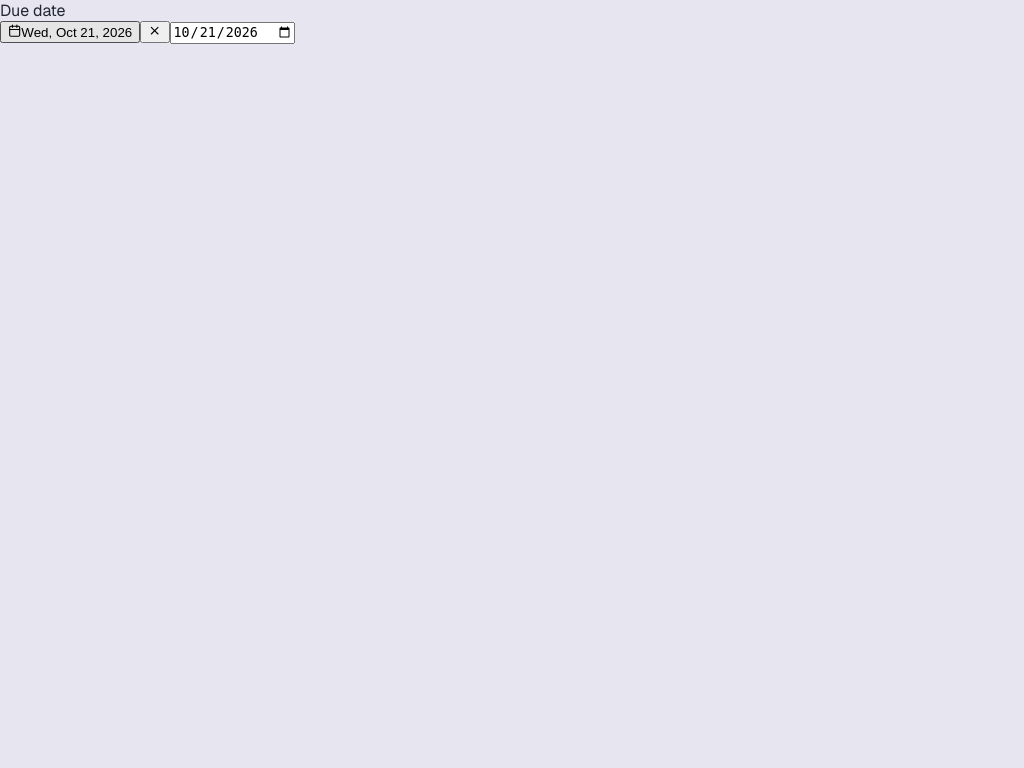
it: reports clicked day and closes
Click the dropdown with id "due".
click(70, 32)  # box [0,21,140,43]
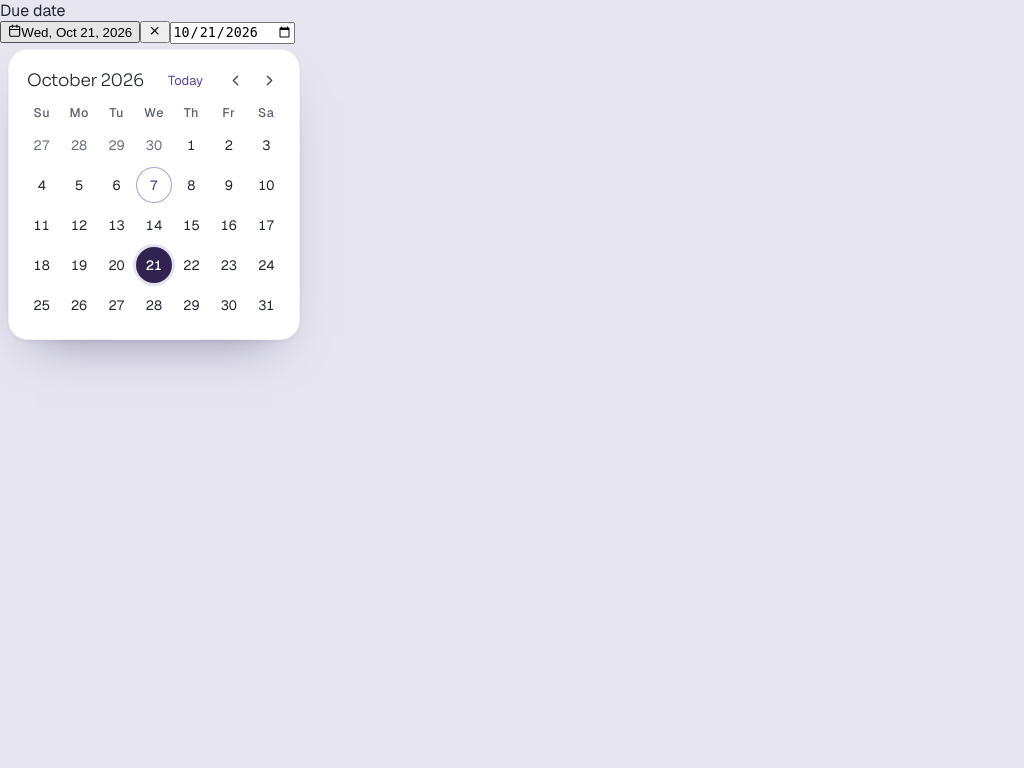
Click the 2nd button "30".
click(229, 305)  # box [211,287,247,323]
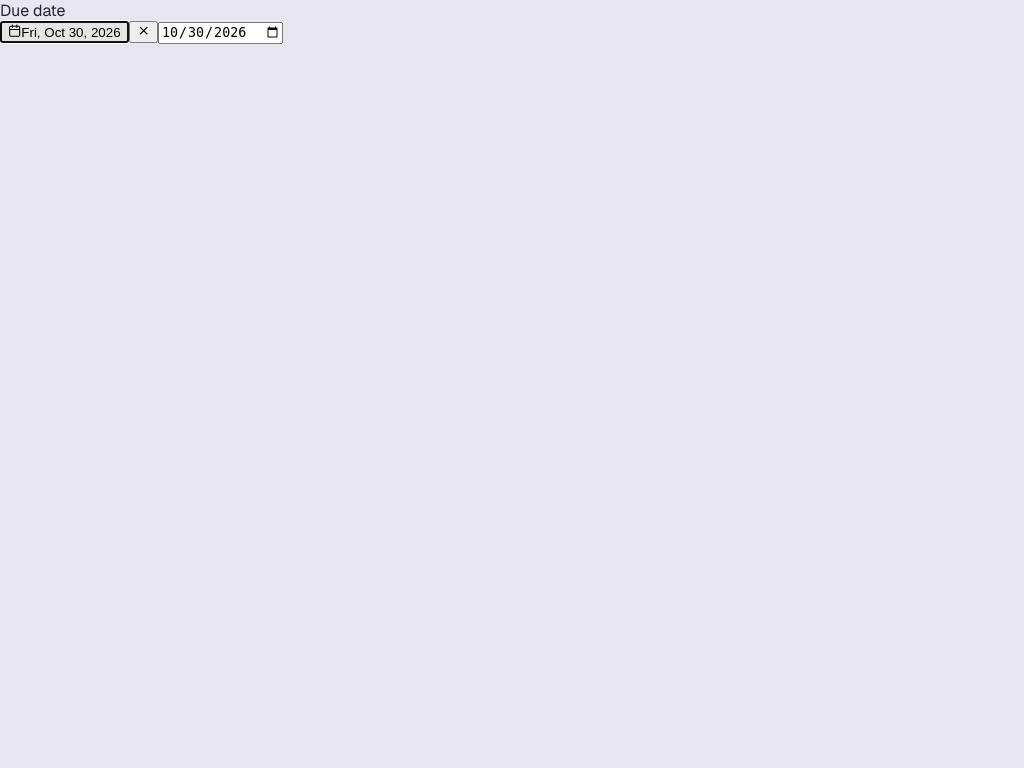
Expected: the dropdown with id "due" is collapsed, [0,21,129,43]
Expected: the dropdown with id "due" reads "Fri, Oct 30, 2026", [0,21,129,43]
